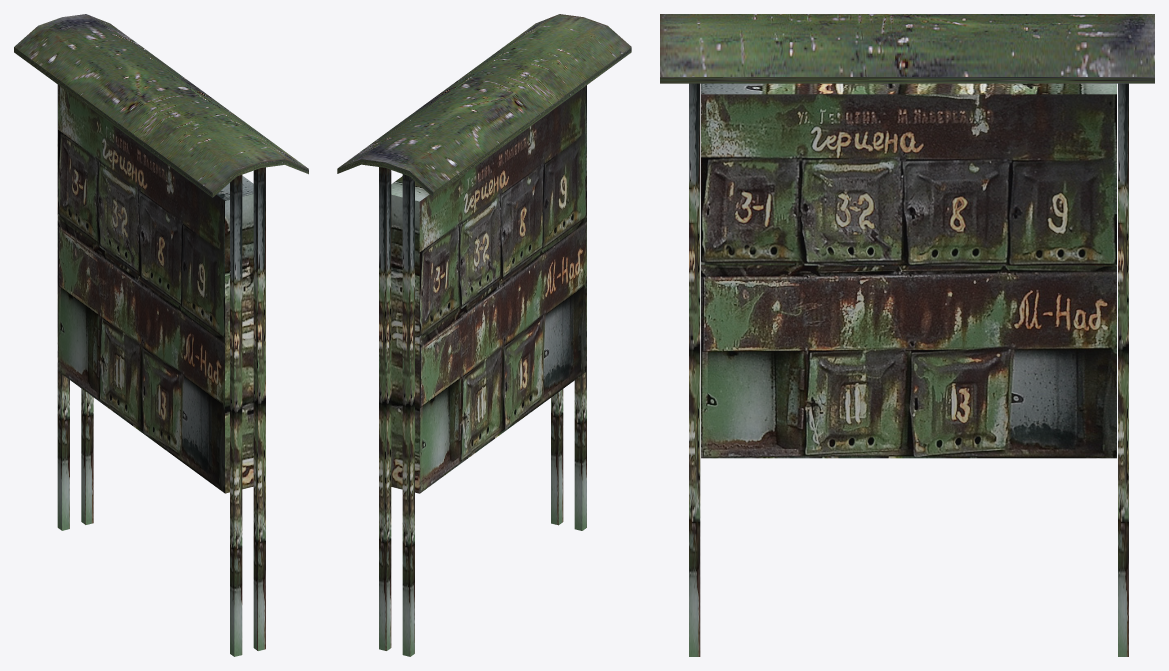
Rendered from sibir_pochtovi_yashik6.FBX.
3 views of the same model, side by side, from view 1: azimuth 30°, elevation 25°; view 2: azimuth 150°, elevation 25°; view 3: azimuth 270°, elevation 25° (orthographic). The views are drawn at different scales.
Visible parts, largest first — view 1: sibir_pochtovi_yashik6; view 2: sibir_pochtovi_yashik6; view 3: sibir_pochtovi_yashik6.
Boxes of the visible parts, x1=… form: sibir_pochtovi_yashik6: x1=14, y1=14, x2=308, y2=656; sibir_pochtovi_yashik6: x1=337, y1=14, x2=631, y2=656; sibir_pochtovi_yashik6: x1=660, y1=14, x2=1154, y2=656.
Size of the model in its own units: 0.3691 by 1.32 by 1.83.
